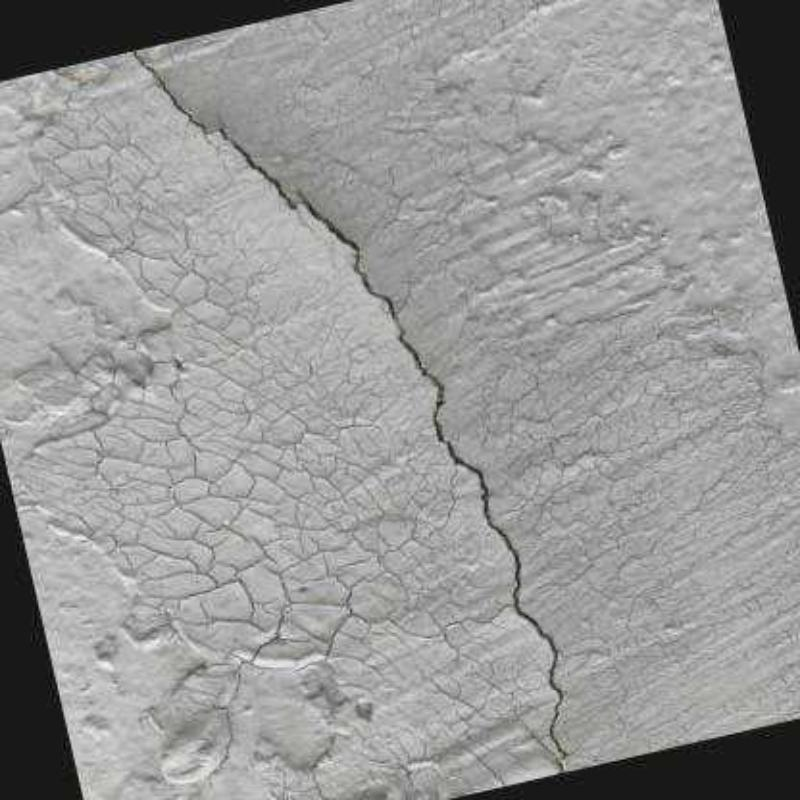pothole: (129, 51, 579, 774)
